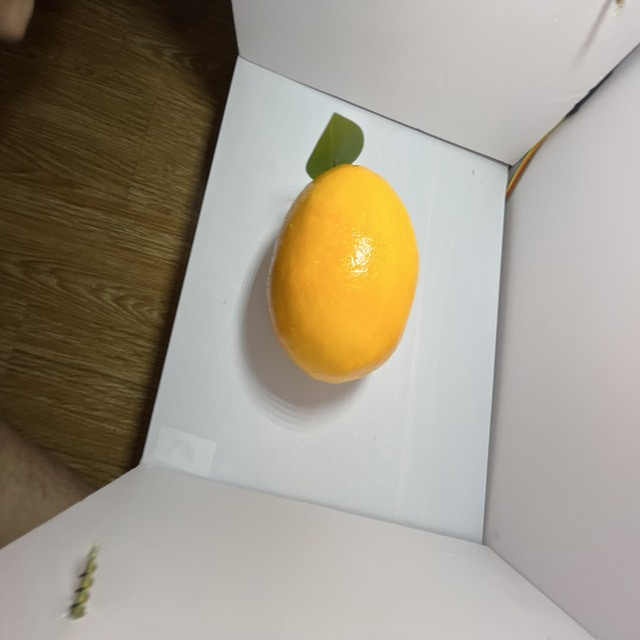Cam vang: (258, 161, 426, 385)
